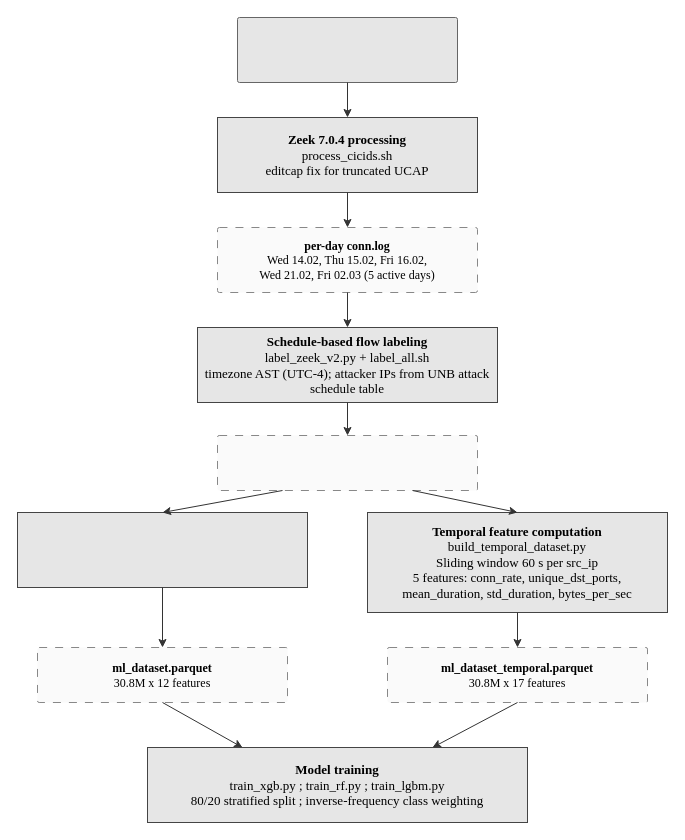
This 685x840 diagram has some shape labels left out. The box of each missing label's shape, as (x1, y1, x2, y2) in pixels:
combined/labeled.csv 30.8M flows · 9 classes · raw Zeek strings: (216, 434, 478, 490)
CSE-CIC-IDS2018 PCAP 400+ GB, 10 capture days NAS storage: (236, 16, 458, 82)
Dataset assembly make_dataset.py categorical -> str ; numerical -> log1p: (16, 512, 308, 588)
